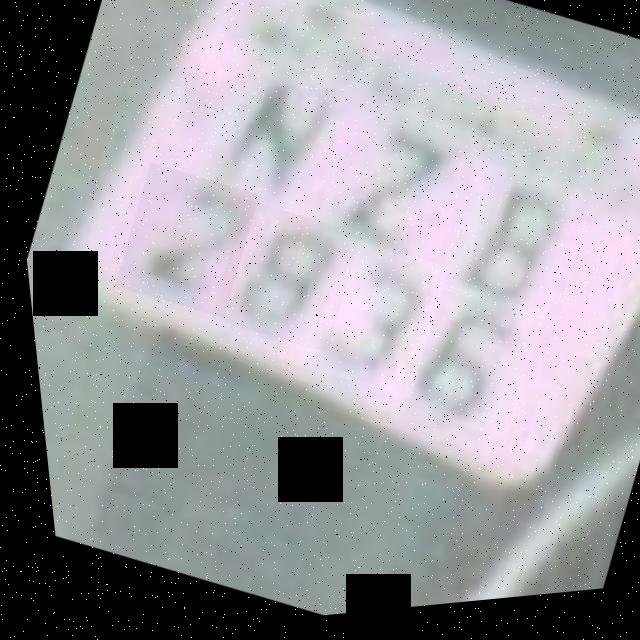2: (98, 157, 264, 330)
3: (268, 228, 451, 414)
6: (364, 275, 545, 457)
8: (194, 195, 365, 367)
B: (419, 159, 588, 338)
N: (178, 38, 354, 234)
Z: (292, 89, 478, 280)
